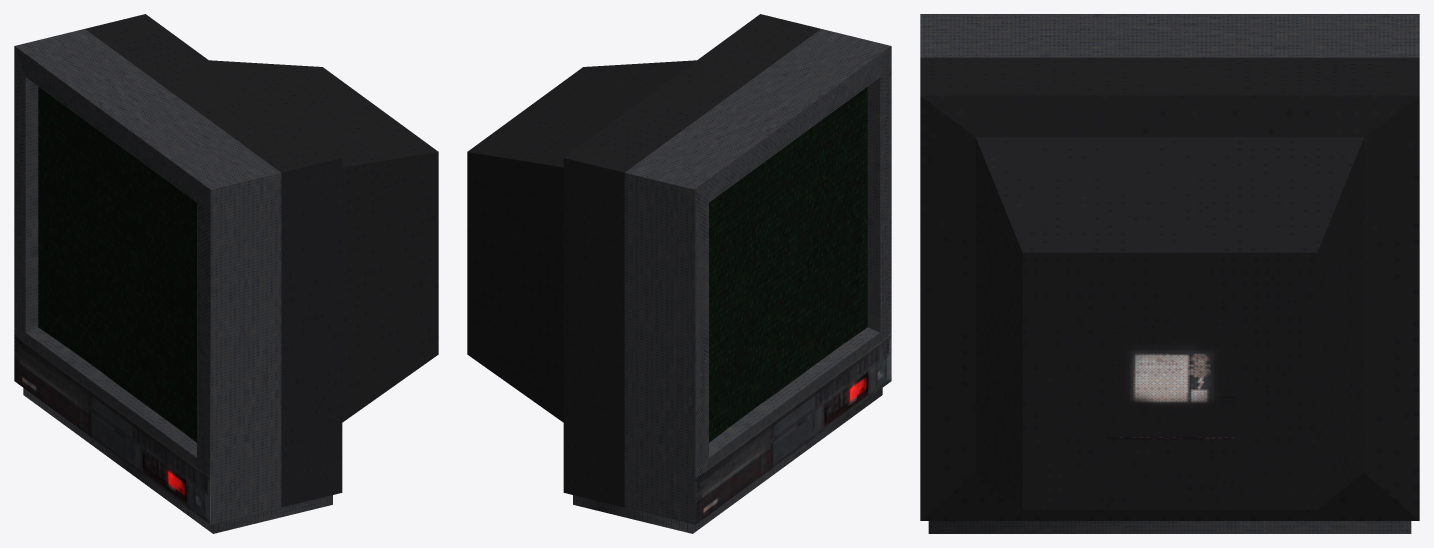
The model's file is TVCRT.fbx.
3 views of the same model, side by side, from view 1: azimuth 30°, elevation 25°; view 2: azimuth 150°, elevation 25°; view 3: azimuth 270°, elevation 25° (orthographic). The views are drawn at different scales.
Parts seen in each view (by area): view 1: Tv; view 2: Tv; view 3: Tv.
Part boxes in pixels (<box>): Tv: <box>14,14,438,533</box>; Tv: <box>467,14,891,533</box>; Tv: <box>920,14,1419,533</box>.
Size of the model in its own units: 111 by 137 by 140.
